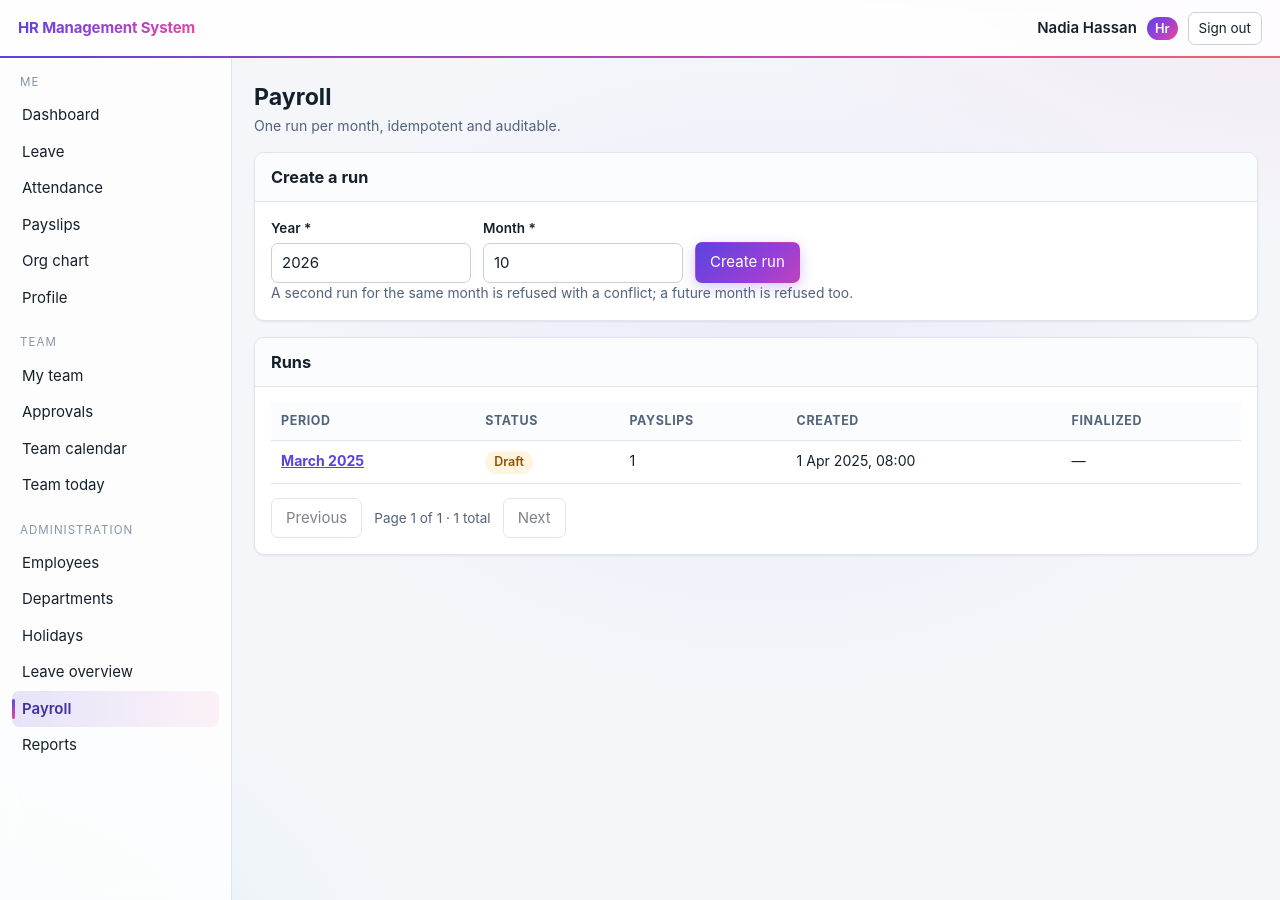
Test: payroll runs › refuses a year outside the supported range
The image size is (1280, 900).
Replace the text in the number field labelled "Year *" with "1999" at [371, 263], box [271,243,471,283]
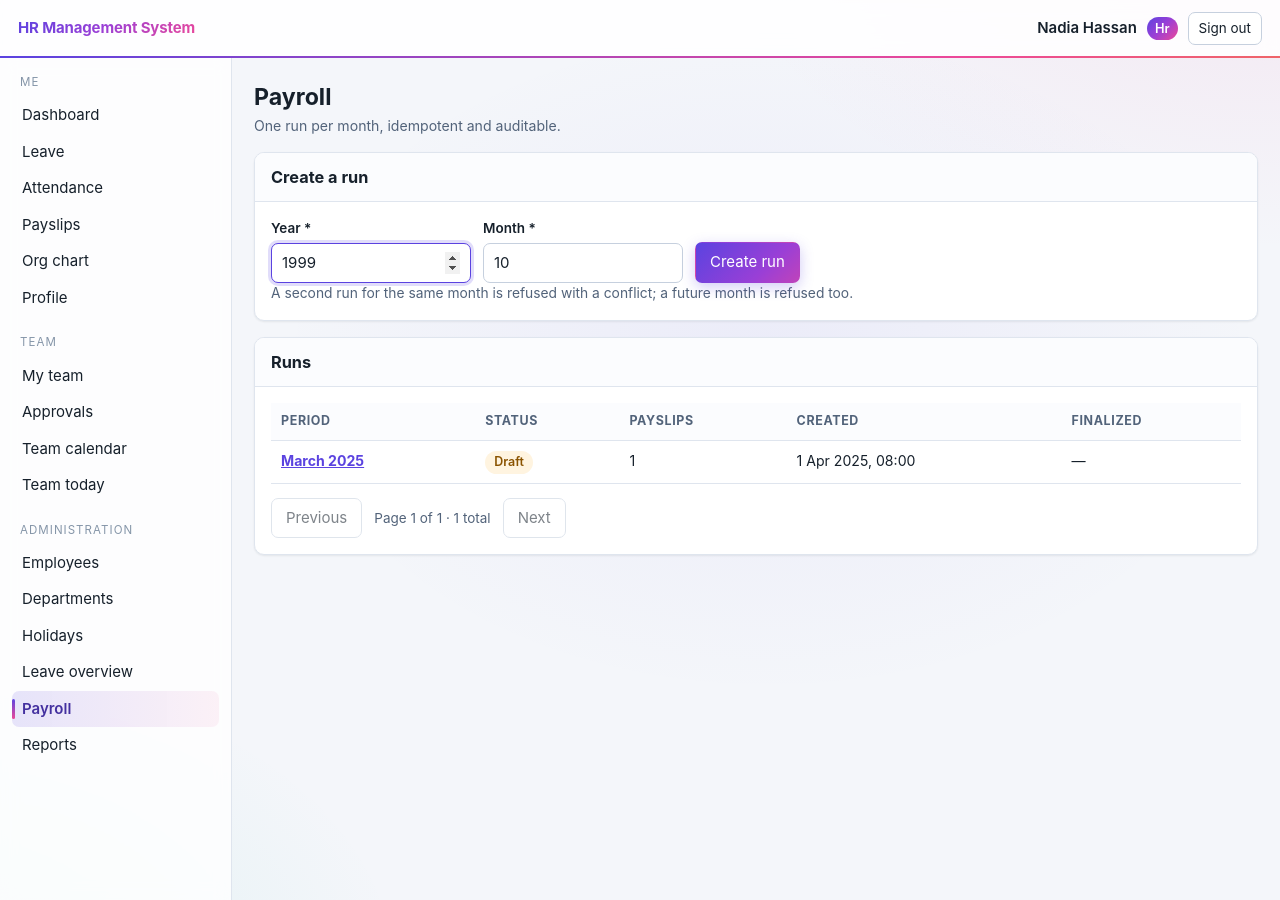
Replace the text in the number field labelled "Month *" with "3" at [583, 263], box [483,243,683,283]
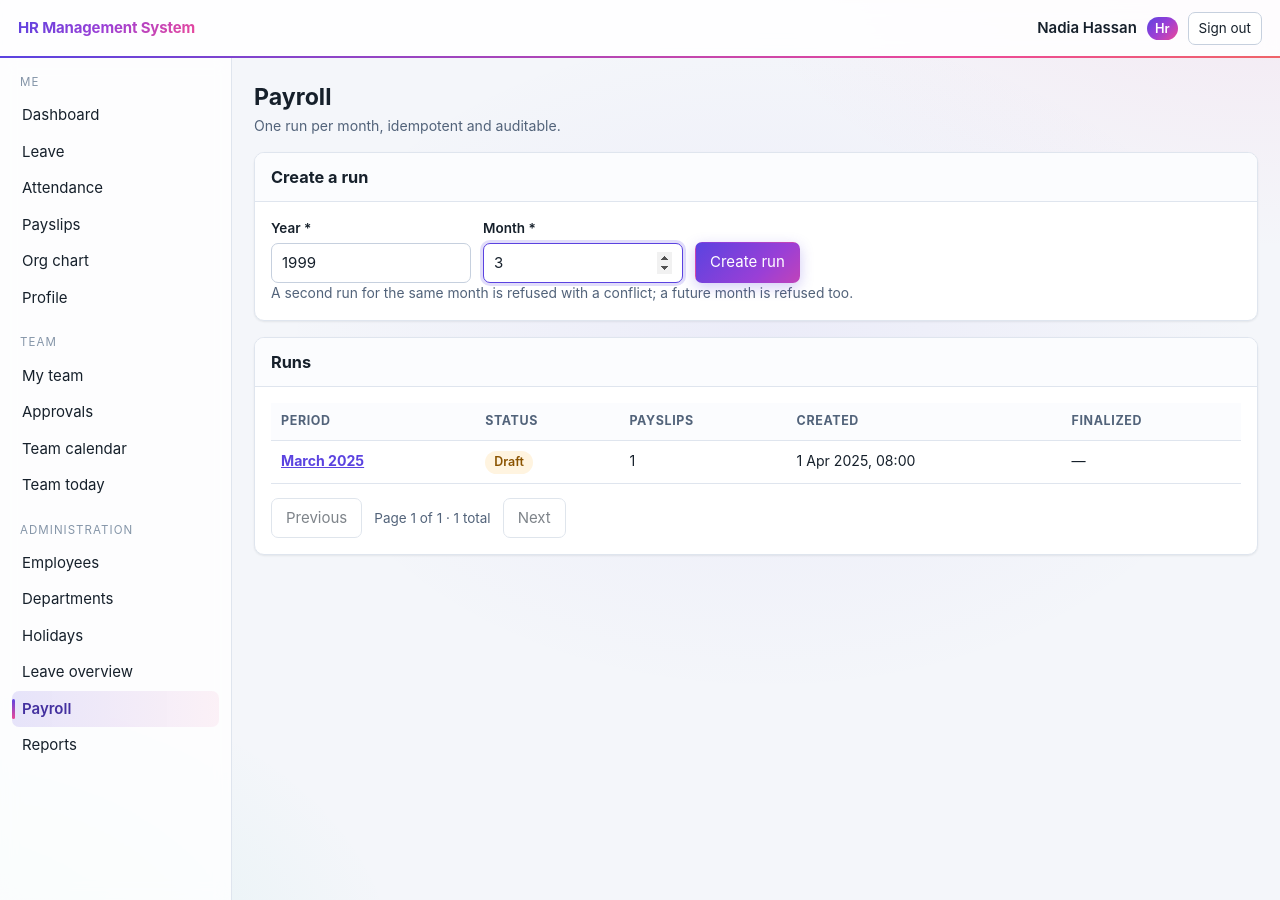
Click the button "Create run" at [747, 263], box [695,242,800,283]
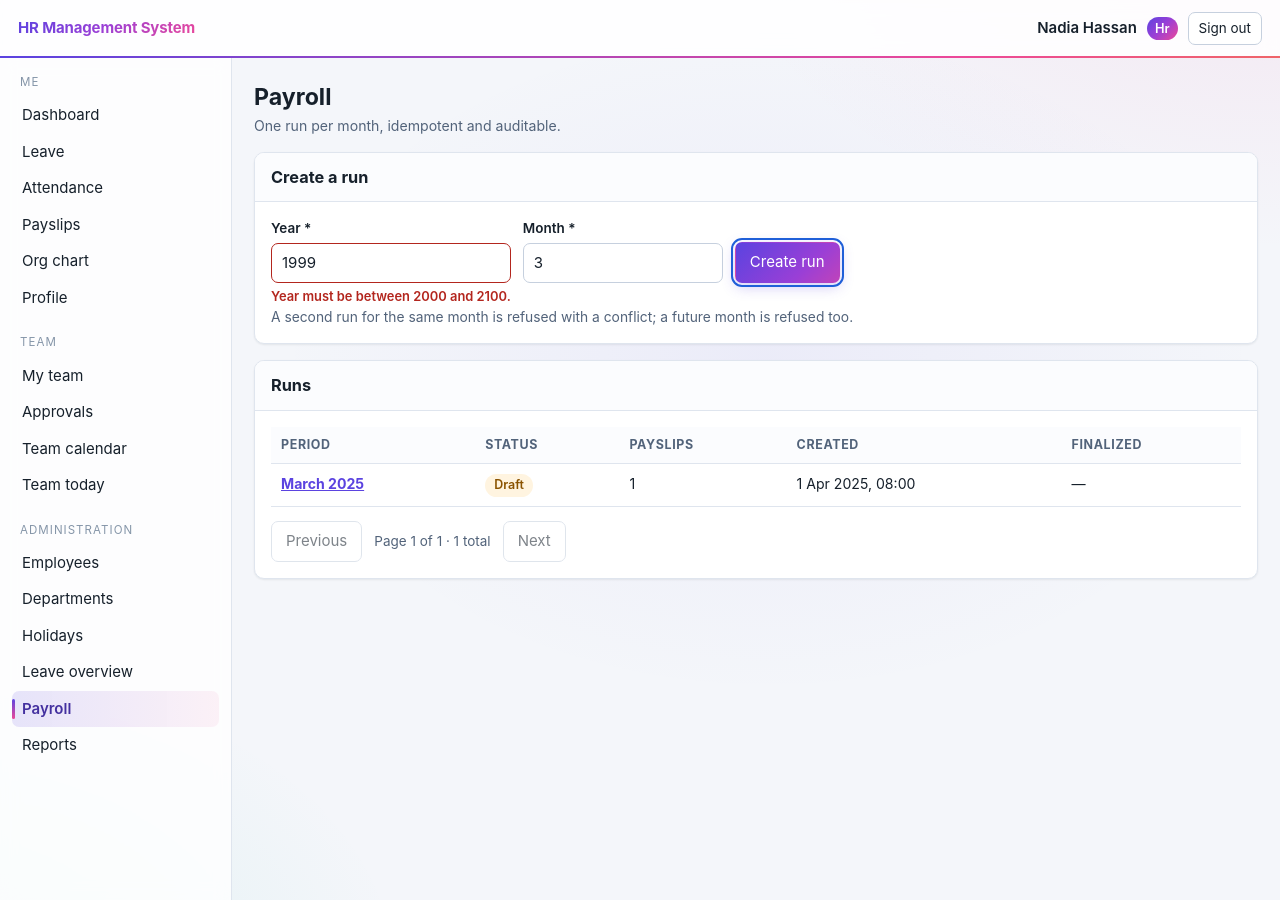
Now the text "Year must be between 2000 and 2100." is shown, box [271,287,511,307]
